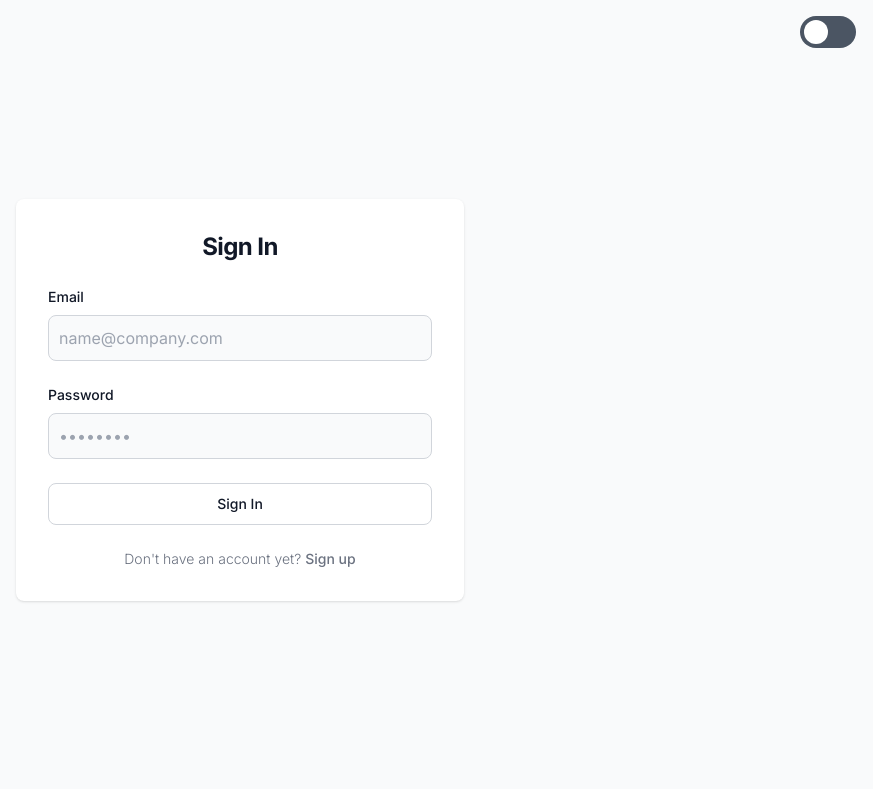
Test: Sign In › should display an error when email is empty
In the password field named "password": x=240, y=436 [48, 413, 432, 459], type "password123"
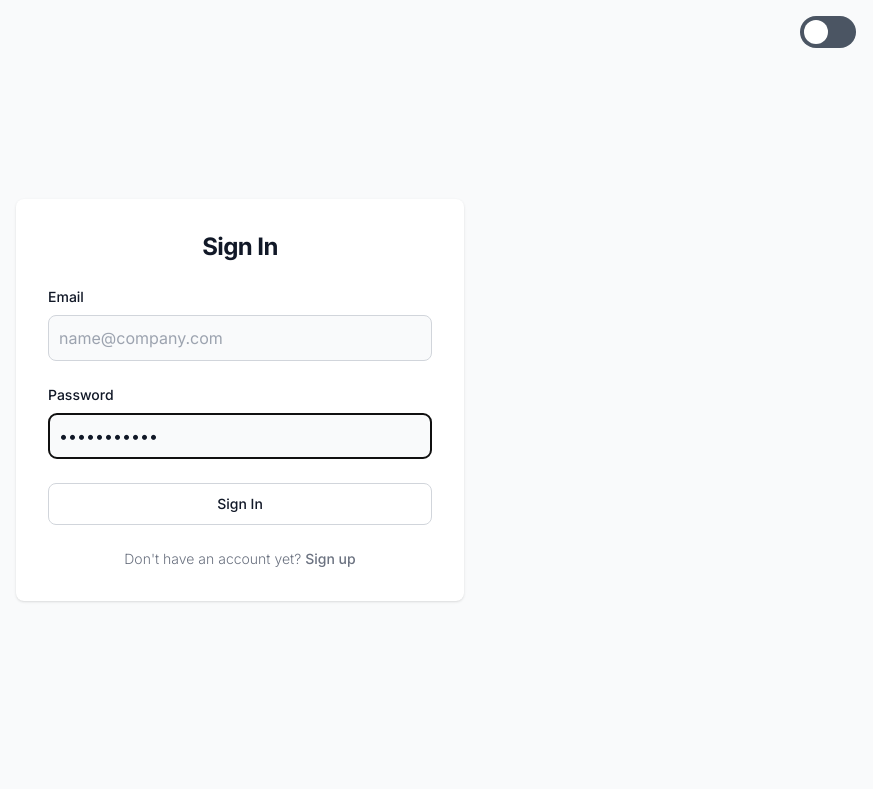
Click the button "Sign In": x=240, y=504 [48, 483, 432, 525]
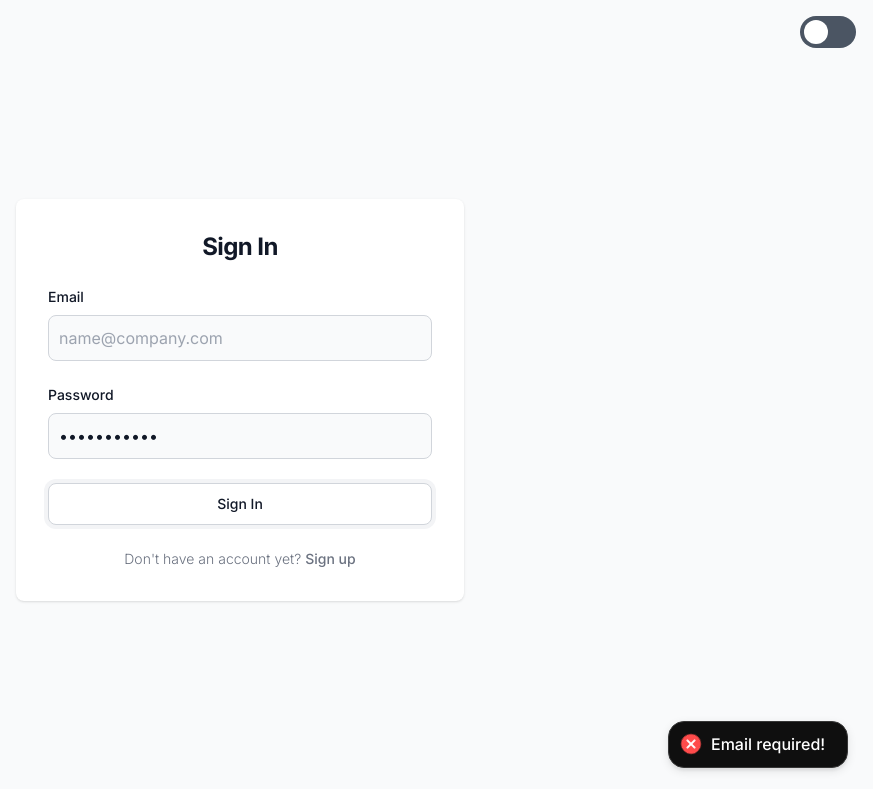
Result: the text "Email required!" is shown at [711, 734, 825, 755]
